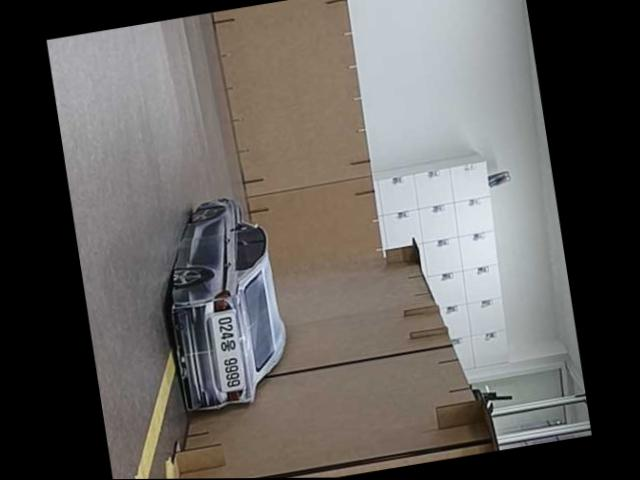car: (149, 189, 299, 420)
id: (202, 307, 252, 395)
